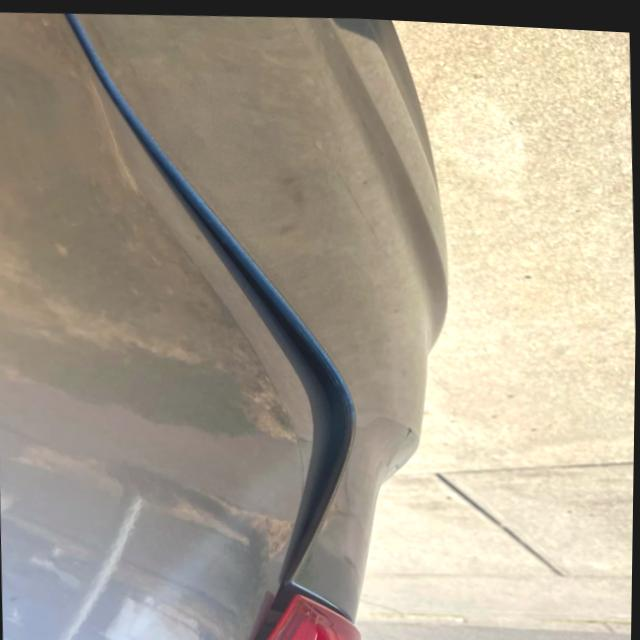Crack: (101, 101, 365, 640)
